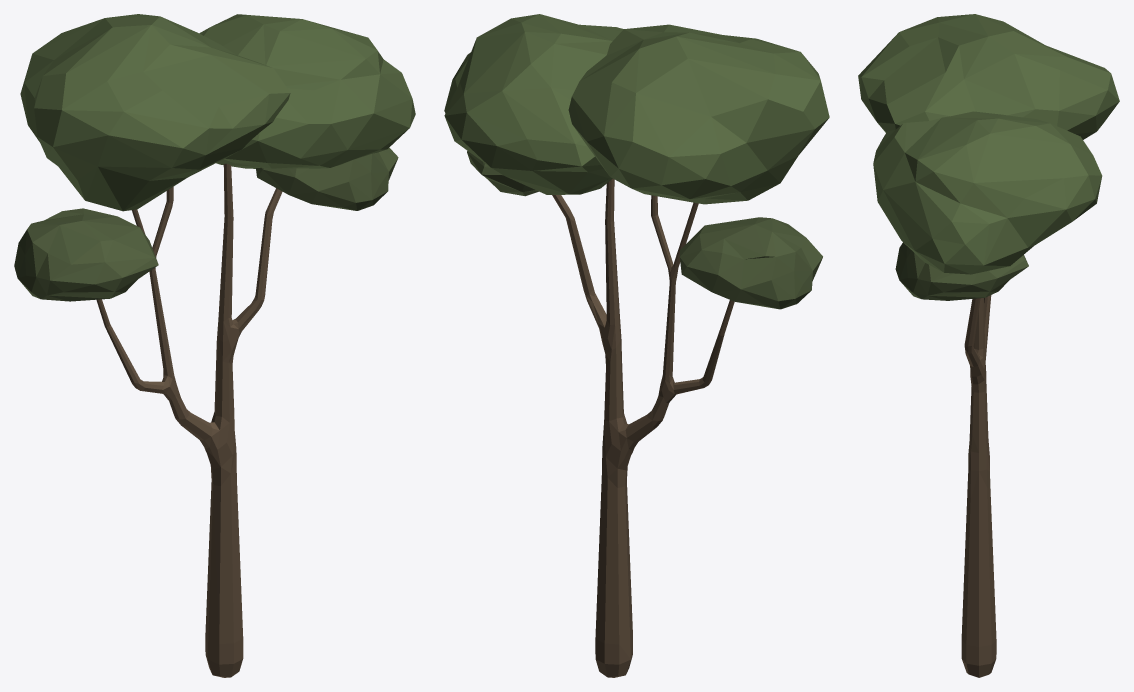
File: SM_Envr_Nature_Tree_09.fbx
The picture shows the model from 3 angles, left to right: view 1: azimuth 30°, elevation 25°; view 2: azimuth 150°, elevation 25°; view 3: azimuth 270°, elevation 25°; orthographic projection. The views are drawn at different scales.
Parts seen in each view (by area): view 1: SM_Envr_Nature_Tree_09; view 2: SM_Envr_Nature_Tree_09; view 3: SM_Envr_Nature_Tree_09.
Part boxes in pixels (bbox=[...]): SM_Envr_Nature_Tree_09: bbox=[14, 14, 415, 677]; SM_Envr_Nature_Tree_09: bbox=[444, 14, 829, 677]; SM_Envr_Nature_Tree_09: bbox=[858, 14, 1119, 677].
Size of the model in its own units: 320 by 553 by 215.
